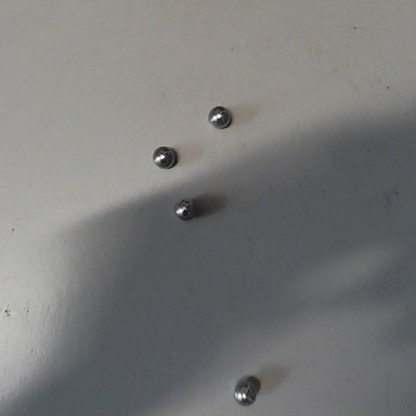ironball: (231, 381, 255, 405), (206, 105, 230, 128), (151, 145, 175, 167), (174, 199, 193, 220)
